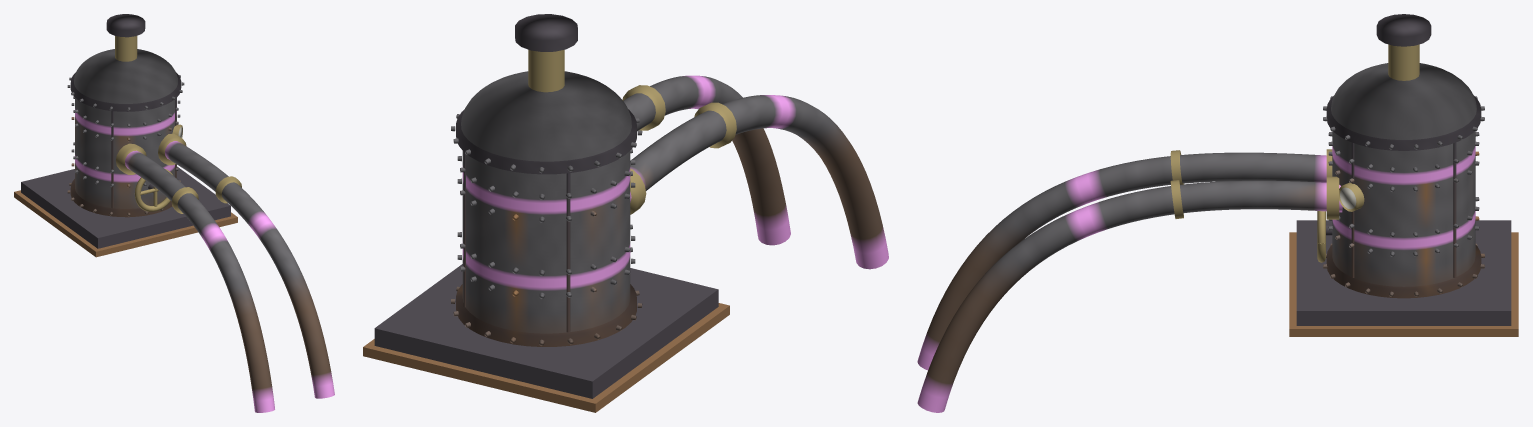
Rendered from darkpump-lod0.glb.
3 renders of one model, left to right at view 1: azimuth 30°, elevation 25°; view 2: azimuth 150°, elevation 25°; view 3: azimuth 270°, elevation 25°, orthographic. The views are drawn at different scales.
Parts seen in each view (by area): view 1: darkpump; view 2: darkpump; view 3: darkpump.
Boxes of the visible parts, left/top/right/bottom form: darkpump: left=14, top=14, right=334, bottom=412; darkpump: left=363, top=14, right=888, bottom=412; darkpump: left=917, top=14, right=1518, bottom=412.
Bounding box in the file's own units: 5.12 × 8.97 × 13.43.
3 materials, 3 textured.
